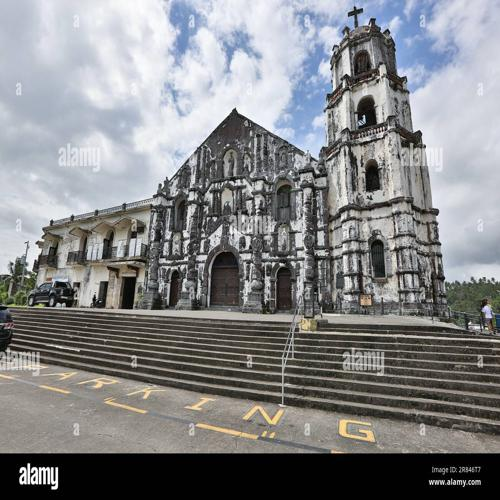Daraga Church: (148, 4, 447, 317)
